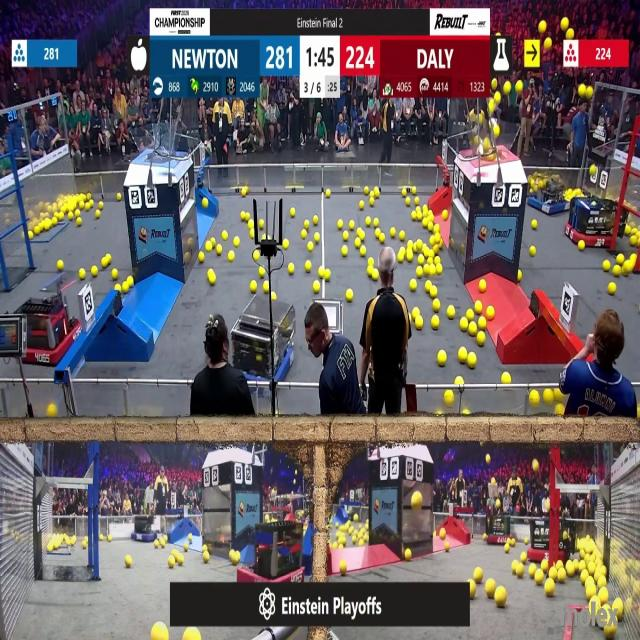ball_airborne: (412, 492, 422, 508), (492, 126, 500, 138), (538, 22, 546, 34), (503, 84, 511, 95), (578, 86, 585, 98), (517, 80, 524, 92), (587, 87, 594, 99), (562, 18, 569, 30), (484, 140, 492, 150), (494, 93, 501, 104), (489, 101, 495, 113), (472, 137, 480, 146), (566, 30, 573, 40), (544, 38, 550, 49), (532, 460, 538, 470), (492, 79, 498, 89), (480, 111, 485, 122), (486, 453, 492, 462), (590, 166, 596, 175), (544, 499, 548, 510), (496, 499, 500, 508), (492, 479, 496, 486)
ball_ground: (494, 588, 506, 608), (152, 624, 166, 640), (604, 625, 616, 640), (529, 390, 539, 406), (544, 581, 553, 598), (486, 580, 495, 596), (598, 590, 608, 604), (534, 570, 544, 584), (445, 391, 454, 405), (459, 348, 467, 363), (467, 353, 475, 368), (624, 262, 634, 274), (184, 630, 196, 640), (47, 406, 56, 419), (543, 389, 552, 402), (346, 288, 354, 302), (439, 351, 447, 365), (473, 567, 481, 581), (208, 271, 216, 285), (340, 560, 348, 574), (468, 583, 475, 599), (587, 586, 595, 600), (467, 322, 476, 334), (431, 316, 439, 329), (558, 569, 566, 582), (555, 388, 563, 401), (566, 564, 574, 577), (501, 373, 510, 384), (478, 334, 486, 346), (448, 307, 456, 319), (478, 318, 486, 330), (516, 564, 524, 576), (615, 266, 623, 278), (556, 406, 564, 418), (487, 307, 494, 320), (460, 318, 467, 331), (528, 564, 535, 577), (229, 552, 236, 565), (466, 310, 474, 321), (342, 244, 350, 255), (250, 280, 257, 292), (432, 301, 439, 313), (474, 303, 481, 315), (416, 318, 423, 330), (314, 281, 321, 293), (169, 556, 176, 568), (177, 554, 184, 566), (411, 280, 418, 291), (608, 283, 615, 294), (603, 262, 610, 273), (264, 282, 271, 293), (92, 267, 99, 278), (403, 551, 410, 562), (121, 282, 128, 293), (205, 241, 212, 252), (579, 571, 586, 582), (480, 280, 486, 292), (424, 280, 430, 292), (100, 258, 106, 270), (324, 269, 330, 281), (456, 376, 463, 386), (58, 262, 65, 272), (577, 241, 584, 251), (78, 270, 85, 280), (111, 270, 118, 280), (618, 254, 625, 264), (424, 266, 431, 276), (413, 309, 420, 319), (43, 220, 50, 230), (204, 553, 210, 564), (371, 270, 377, 281), (200, 251, 206, 262), (417, 268, 423, 279), (408, 251, 414, 262), (430, 286, 436, 297), (127, 556, 133, 567), (630, 236, 636, 247), (432, 235, 438, 246), (318, 268, 324, 279), (374, 218, 381, 227), (348, 220, 355, 229), (364, 217, 371, 226), (306, 263, 312, 273), (530, 246, 536, 256), (380, 234, 386, 244), (445, 540, 451, 550), (227, 251, 233, 261), (435, 266, 441, 276), (258, 268, 264, 278), (521, 553, 527, 563), (308, 242, 314, 252), (517, 272, 523, 282), (397, 252, 403, 262), (253, 251, 259, 261), (343, 232, 349, 242), (203, 199, 209, 209), (417, 240, 423, 250), (366, 268, 372, 278), (441, 529, 447, 539), (359, 231, 365, 241), (375, 188, 381, 198), (432, 245, 438, 255), (630, 254, 637, 262), (283, 240, 289, 249), (235, 238, 241, 247), (418, 255, 424, 264), (216, 246, 222, 255), (390, 230, 396, 239), (258, 219, 264, 228), (221, 232, 227, 241), (299, 231, 305, 240), (248, 219, 254, 228), (422, 217, 428, 226), (32, 225, 38, 234), (259, 234, 265, 243), (288, 265, 293, 275), (532, 219, 537, 229), (360, 246, 365, 256), (315, 234, 320, 244), (444, 210, 449, 220), (367, 256, 372, 266), (399, 232, 404, 242), (129, 278, 134, 288), (428, 222, 433, 232), (424, 247, 429, 257), (374, 227, 379, 237), (338, 220, 344, 228), (412, 212, 418, 220), (412, 187, 418, 195), (74, 208, 80, 216), (68, 212, 74, 220), (428, 256, 434, 264), (28, 232, 34, 240), (324, 189, 330, 197), (78, 202, 84, 210), (422, 206, 428, 214), (626, 226, 632, 234), (161, 539, 167, 547), (183, 541, 188, 550), (290, 208, 295, 217), (76, 217, 81, 226), (96, 210, 101, 219), (407, 199, 412, 208), (184, 253, 189, 262), (81, 541, 87, 548), (462, 411, 468, 418), (358, 539, 364, 546), (355, 239, 360, 247), (434, 256, 439, 264), (272, 292, 277, 300), (99, 202, 104, 210), (504, 543, 509, 551), (368, 200, 373, 208), (408, 241, 413, 249), (90, 201, 95, 209), (512, 538, 517, 546), (440, 242, 445, 250), (417, 207, 422, 215), (88, 192, 93, 200), (250, 231, 254, 240), (434, 223, 438, 232), (242, 212, 246, 221), (524, 537, 530, 543), (242, 188, 247, 195), (115, 284, 120, 291), (352, 536, 357, 543), (314, 216, 318, 224), (119, 194, 123, 202), (359, 202, 363, 210), (305, 220, 309, 228), (154, 539, 158, 547), (416, 198, 420, 206), (401, 188, 405, 196), (364, 186, 368, 194), (483, 534, 488, 540), (100, 534, 105, 540), (204, 543, 208, 550), (108, 535, 112, 541), (188, 534, 192, 540), (354, 516, 358, 522), (269, 235, 273, 241)
goal: (465, 119, 521, 160), (132, 129, 188, 161)
robot_blue: (230, 305, 298, 388), (526, 167, 567, 214), (132, 516, 158, 542)
robot_red: (21, 290, 75, 366), (249, 518, 306, 585), (566, 191, 618, 246), (527, 517, 562, 562), (487, 515, 512, 543)
